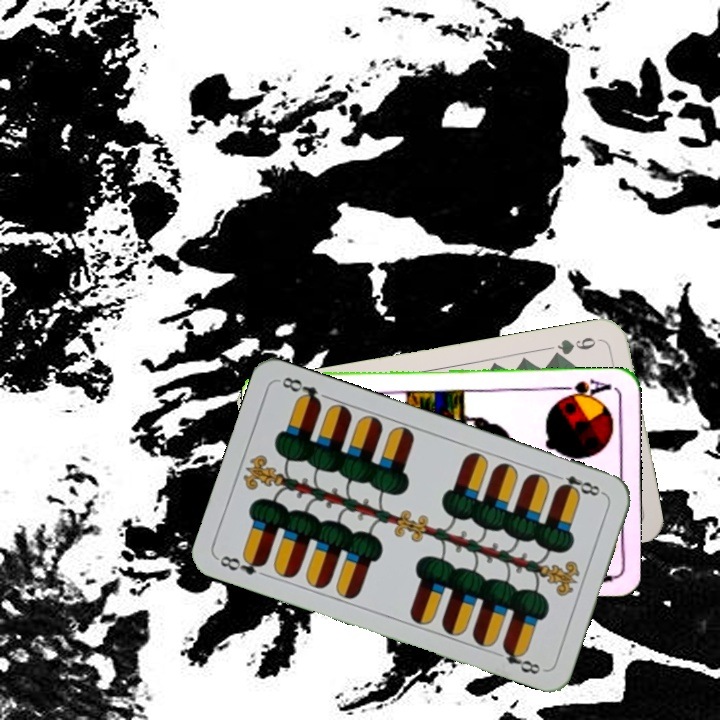E8: (550, 470, 607, 499), (214, 550, 269, 578)
G9: (548, 333, 605, 361)
SA: (556, 375, 614, 402)
